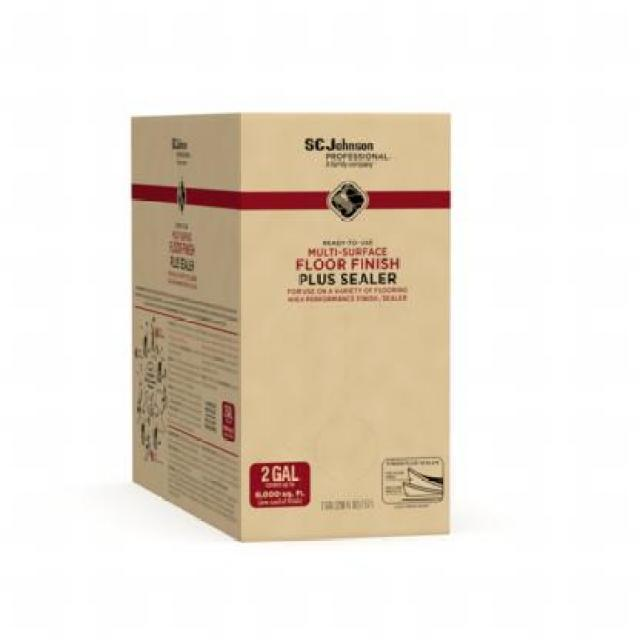box: (124, 107, 453, 549)
